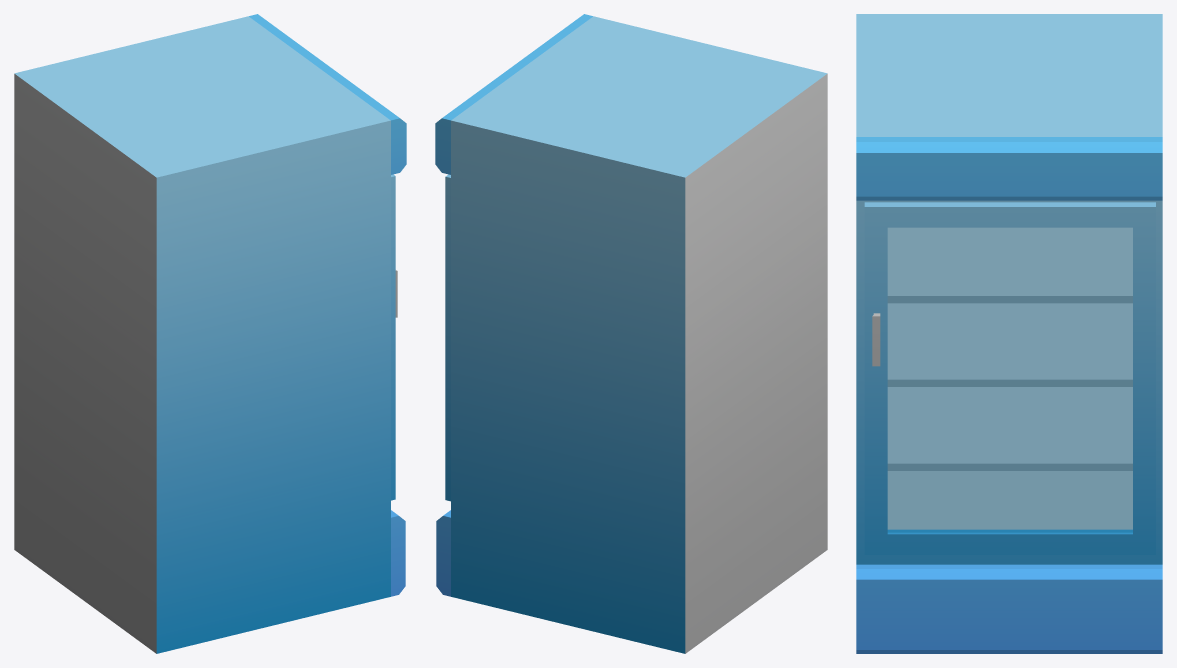
The model's file is fridge_single_blue.fbx.
3 views of the same model, side by side, from view 1: azimuth 30°, elevation 25°; view 2: azimuth 150°, elevation 25°; view 3: azimuth 270°, elevation 25° (orthographic). The views are drawn at different scales.
Parts seen in each view (by area): view 1: fridge_single_blue, fridge_door_single_blue; view 2: fridge_single_blue, fridge_door_single_blue; view 3: fridge_single_blue, fridge_door_single_blue.
Boxes of the visible parts, <box> form: fridge_single_blue: <box>14,14,406,653</box>; fridge_door_single_blue: <box>391,174,397,500</box>; fridge_single_blue: <box>435,14,827,653</box>; fridge_door_single_blue: <box>445,174,450,501</box>; fridge_single_blue: <box>856,14,1162,653</box>; fridge_door_single_blue: <box>864,202,1155,554</box>.
Size of the model in its own units: 680 by 1238 by 671.
